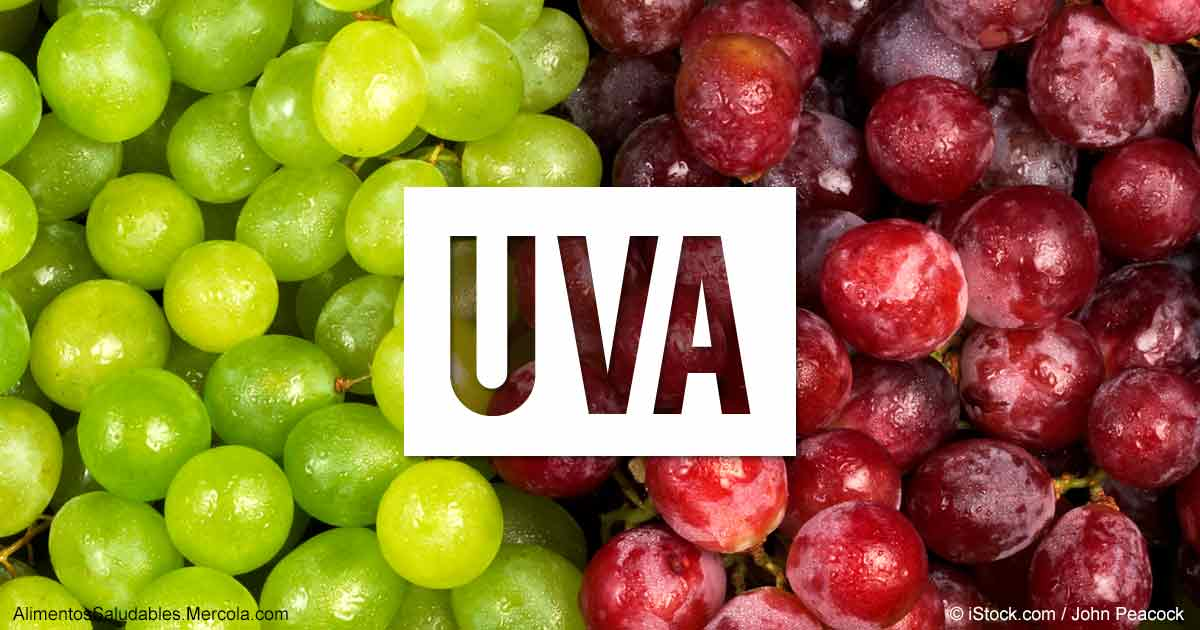Green grapes: (8, 29, 402, 587)
Red Grapes: (832, 79, 1172, 606)
